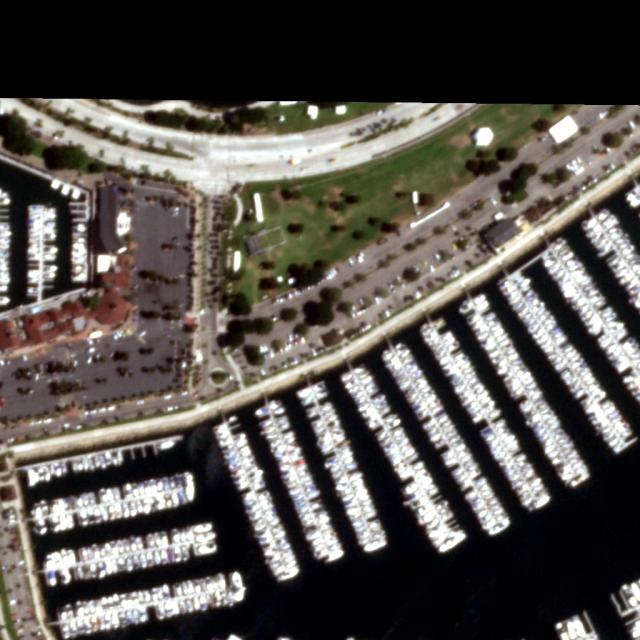personal ships: (382, 345, 512, 539), (465, 301, 595, 487), (425, 324, 553, 511), (501, 279, 634, 456), (345, 366, 465, 555), (256, 395, 348, 563), (540, 245, 639, 401), (215, 418, 303, 585), (304, 384, 389, 551), (60, 577, 244, 635), (26, 470, 194, 533), (41, 529, 214, 585), (27, 210, 61, 301)
